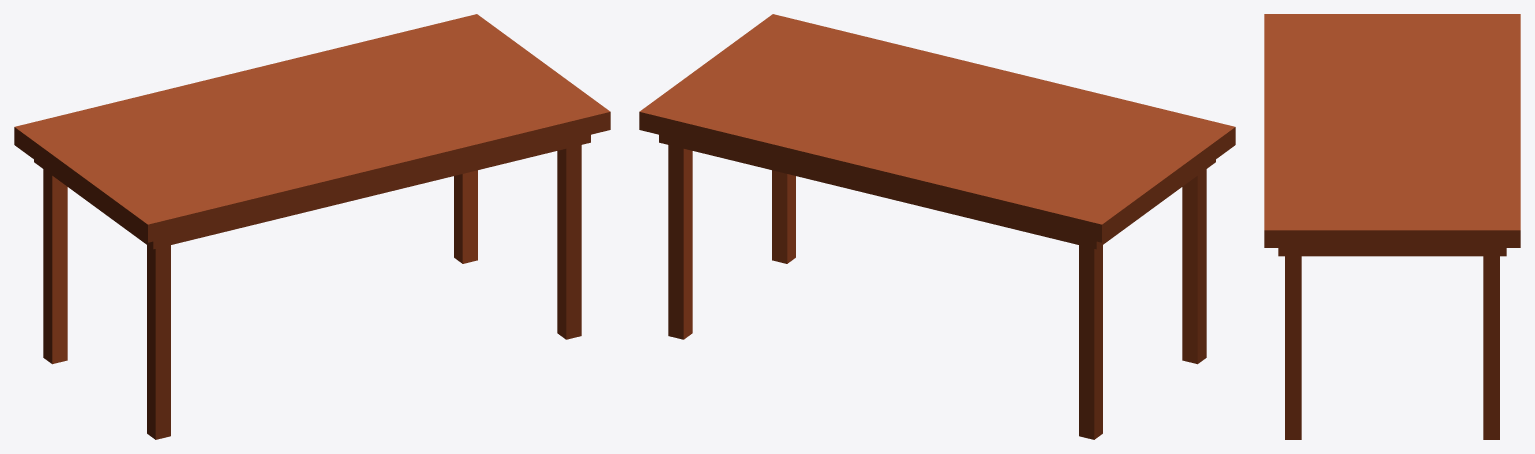
The model's file is TPTable.fbx.
3 views of the same model, side by side, from view 1: azimuth 30°, elevation 25°; view 2: azimuth 150°, elevation 25°; view 3: azimuth 270°, elevation 25° (orthographic). The views are drawn at different scales.
Parts seen in each view (by area): view 1: TPTable; view 2: TPTable; view 3: TPTable.
Boxes of the visible parts, x1,y1,x2,y2 form: TPTable: (14, 14, 610, 439); TPTable: (639, 14, 1235, 439); TPTable: (1264, 14, 1520, 439).
Bounding box in the file's own units: 160 × 80 × 75.2.
Materials: 1 (1 with a texture image).
